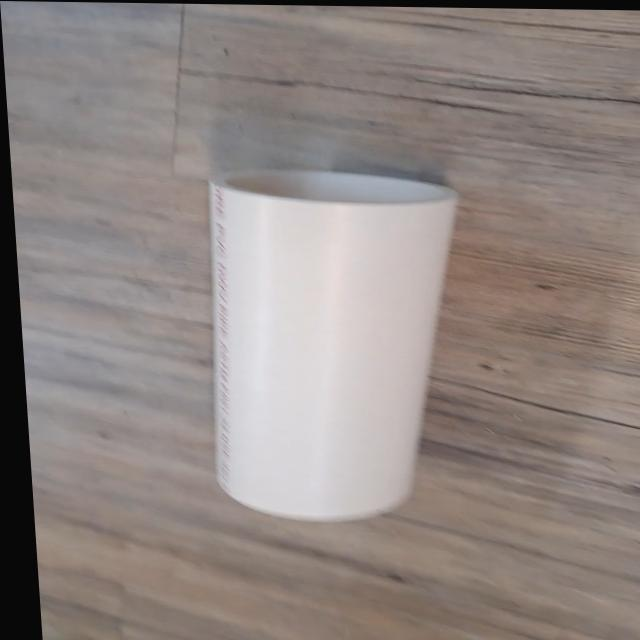CORAL: (189, 161, 490, 533)
